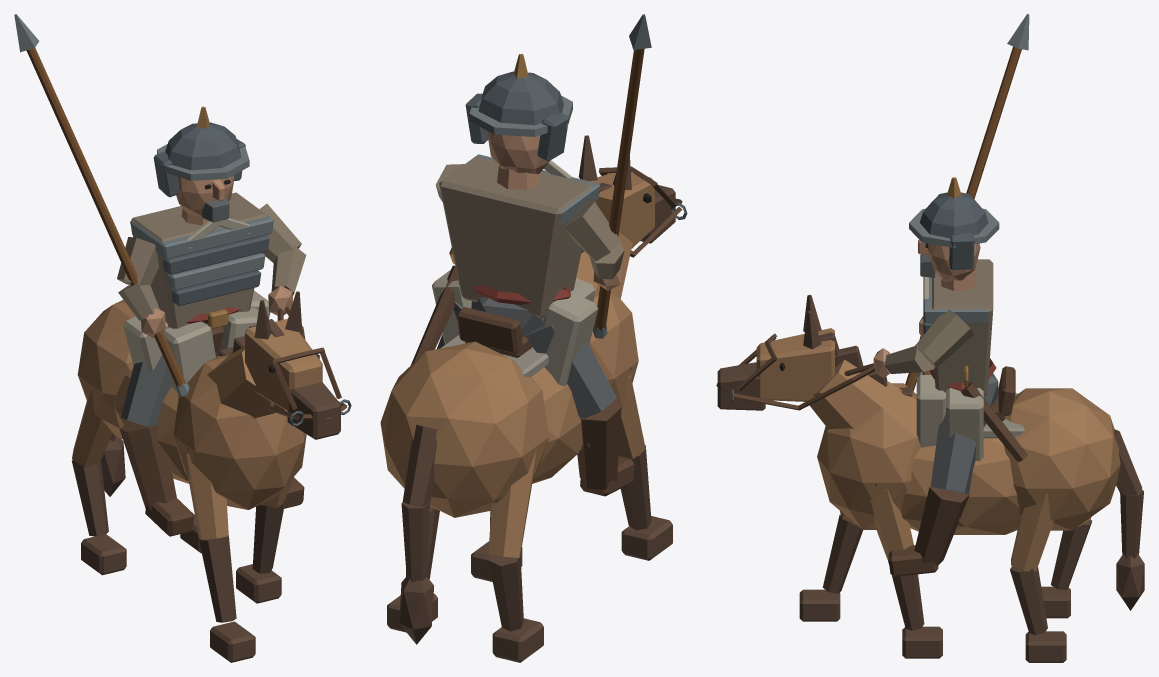
File: chr_f1_light_cavalry_pixel_v003.glb
3 views of the same model, side by side, from view 1: azimuth 30°, elevation 25°; view 2: azimuth 150°, elevation 25°; view 3: azimuth 270°, elevation 25° (orthographic). The views are drawn at different scales.
Parts seen in each view (by area): view 1: LCV_Horse_Chest, LCV_Horse_Hindquarters, LCV_Rider_TunicTorso, LCV_Horse_Head, LCV_Weapon_RidingSpear_Shaft, LCV_Rider_Leg_L_Boot, LCV_Rider_HelmetDome, LCV_Horse_Neck, LCV_Rider_Leg_L_Thigh, LCV_Rider_ArmorRow_04, LCV_Horse_Front_L_Lower, LCV_Horse_Muzzle (+27 smaller); view 2: LCV_Horse_Hindquarters, LCV_Rider_TunicTorso, LCV_Rider_HelmetDome, LCV_Horse_Torso, LCV_Rider_RobeFlap_Side_L, LCV_Horse_Chest, LCV_Rider_Leg_L_Boot, LCV_Rider_Leg_L_Thigh, LCV_Horse_Hind_L_Upper, LCV_Weapon_RidingSpear_Shaft, LCV_Horse_Head, LCV_Tack_CantleRear (+29 smaller); view 3: LCV_Horse_Hindquarters, LCV_Horse_Chest, LCV_Horse_Torso, LCV_Rider_TunicTorso, LCV_Horse_Head, LCV_Horse_Neck, LCV_Rider_Leg_R_Boot, LCV_Rider_Leg_R_Thigh, LCV_Rider_HelmetDome, LCV_Horse_Hind_R_Upper, LCV_Rider_RobeFlap_Side_R, LCV_Rider_Arm_L_Upper (+24 smaller).
Boxes of the visible parts, x1,y1,x2,y2 form: LCV_Horse_Chest: (173, 354, 306, 509); LCV_Horse_Hindquarters: (77, 299, 135, 439); LCV_Rider_TunicTorso: (130, 192, 266, 328); LCV_Horse_Head: (245, 318, 322, 411); LCV_Weapon_RidingSpear_Shaft: (26, 48, 186, 387); LCV_Rider_Leg_L_Boot: (119, 421, 176, 510); LCV_Rider_HelmetDome: (165, 122, 241, 170); LCV_Horse_Neck: (207, 345, 285, 418); LCV_Rider_Leg_L_Thigh: (120, 354, 170, 426); LCV_Rider_ArmorRow_04: (130, 215, 273, 259); LCV_Horse_Front_L_Lower: (199, 535, 236, 622); LCV_Horse_Muzzle: (287, 382, 340, 439); LCV_Horse_Hindquarters: (380, 341, 549, 517); LCV_Rider_TunicTorso: (439, 156, 592, 317); LCV_Rider_HelmetDome: (478, 71, 563, 125); LCV_Horse_Torso: (531, 360, 604, 483); LCV_Rider_RobeFlap_Side_L: (542, 291, 597, 386); LCV_Horse_Chest: (589, 293, 638, 408); LCV_Rider_Leg_L_Boot: (577, 399, 621, 489); LCV_Rider_Leg_L_Thigh: (525, 325, 616, 418); LCV_Horse_Hind_L_Upper: (488, 452, 536, 557); LCV_Weapon_RidingSpear_Shaft: (594, 48, 644, 330); LCV_Horse_Head: (589, 173, 654, 248); LCV_Tack_CantleRear: (457, 307, 522, 353); LCV_Horse_Hindquarters: (1004, 388, 1120, 530); LCV_Horse_Chest: (817, 383, 921, 529); LCV_Horse_Torso: (900, 438, 1021, 534); LCV_Rider_TunicTorso: (932, 259, 993, 396); LCV_Horse_Head: (756, 328, 834, 401); LCV_Horse_Neck: (810, 359, 901, 429); LCV_Rider_Leg_R_Boot: (914, 486, 969, 566); LCV_Rider_Leg_R_Thigh: (930, 413, 985, 494); LCV_Rider_HelmetDome: (919, 192, 988, 238); LCV_Horse_Hind_R_Upper: (1011, 493, 1053, 571); LCV_Rider_RobeFlap_Side_R: (946, 388, 983, 461); LCV_Rider_Arm_L_Upper: (915, 309, 973, 367).
Size of the model in its own units: 1.69 by 4.05 by 2.84.
